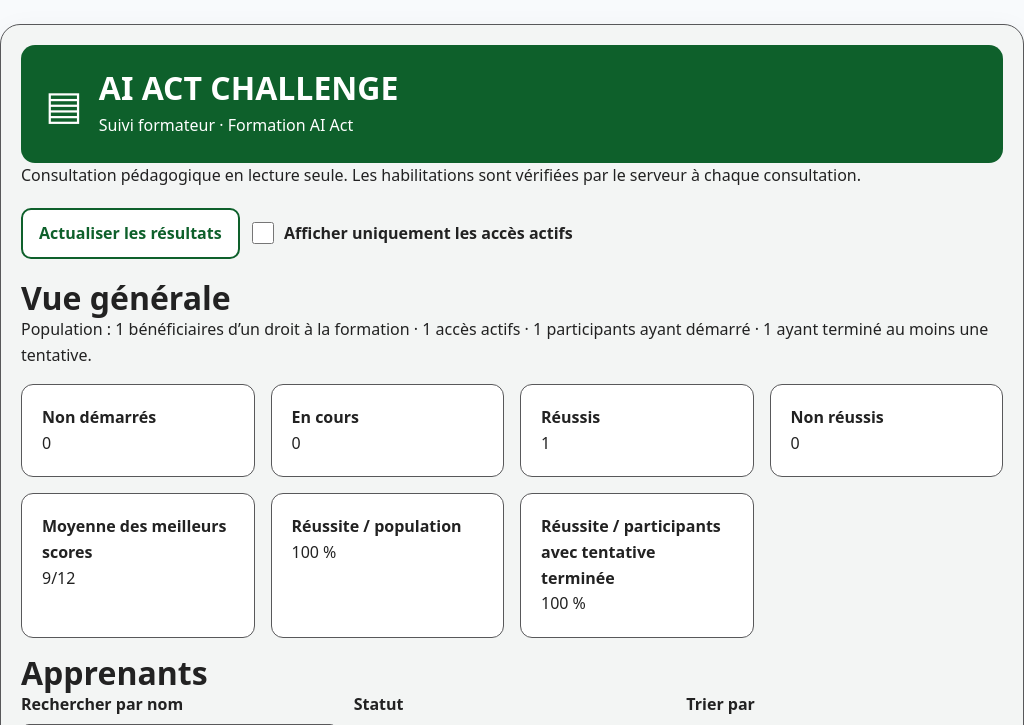
Test case: retrait d’habilitation : consultation suivante refusée, données retirées
Click the button "Actualiser les résultats".
click(130, 233)  # box [21,208,240,259]
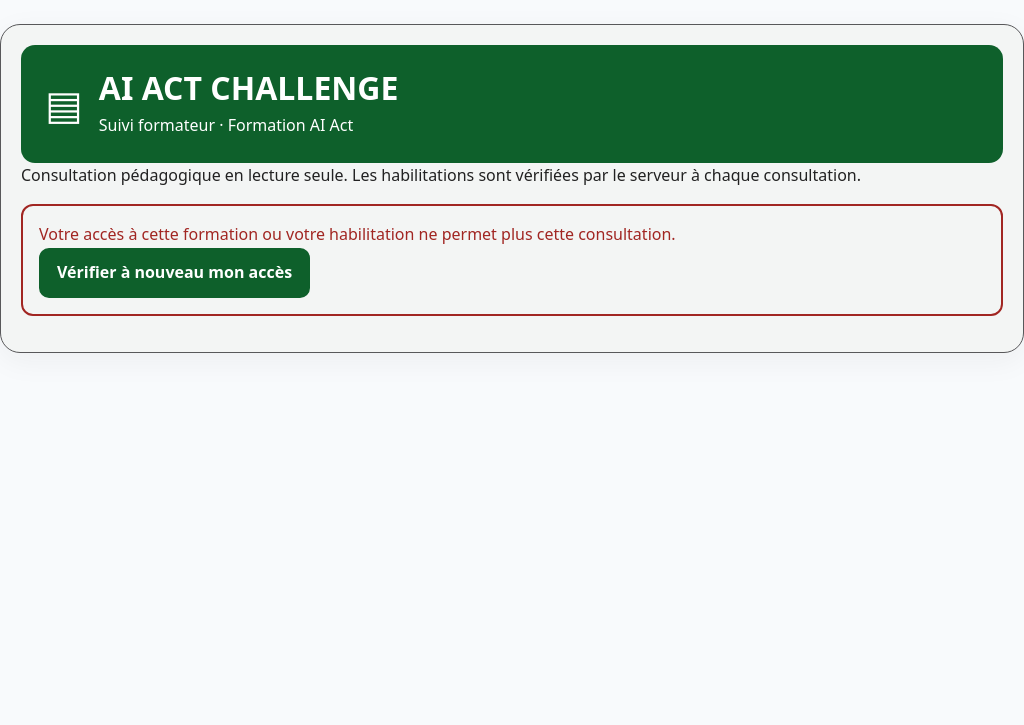
expect the message is shown: met, box [21,204,1003,316]
